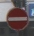No entry: (5, 6, 28, 30)
